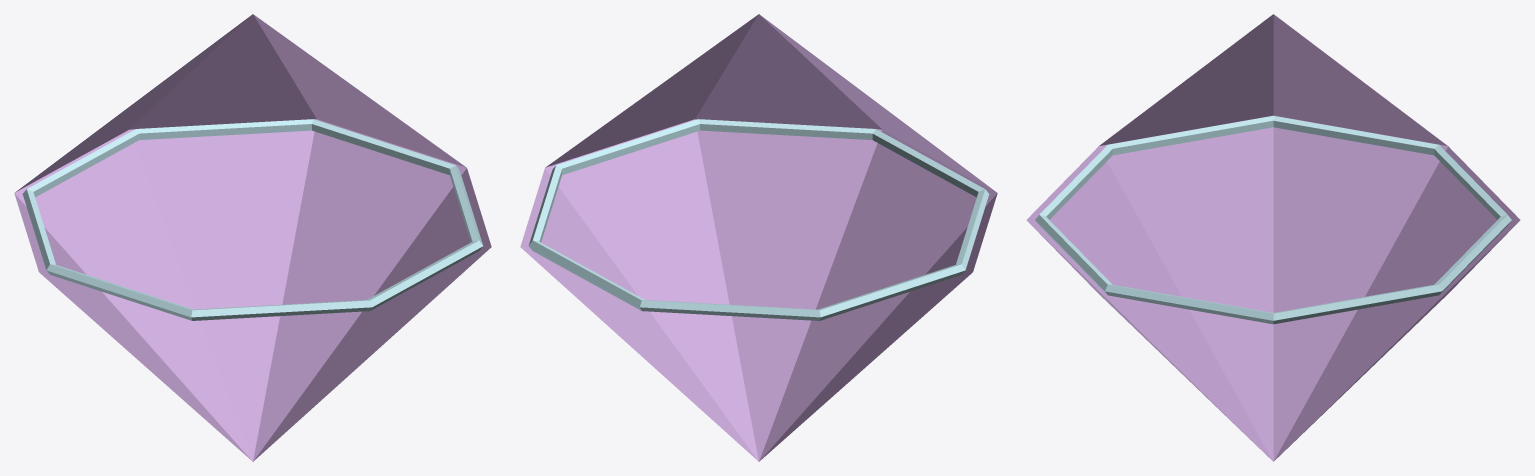
The model's file is gema_violeta.glb.
The picture shows the model from 3 angles, left to right: view 1: azimuth 30°, elevation 25°; view 2: azimuth 150°, elevation 25°; view 3: azimuth 270°, elevation 25°; orthographic projection.
Visible parts, largest first — view 1: gema_violeta; view 2: gema_violeta; view 3: gema_violeta.
Part boxes in pixels (x1,y1,x2,y2): gema_violeta: (14, 14, 491, 461); gema_violeta: (520, 14, 997, 461); gema_violeta: (1026, 14, 1520, 461).
Size of the model in its own units: 0.76 by 0.76 by 0.76.
